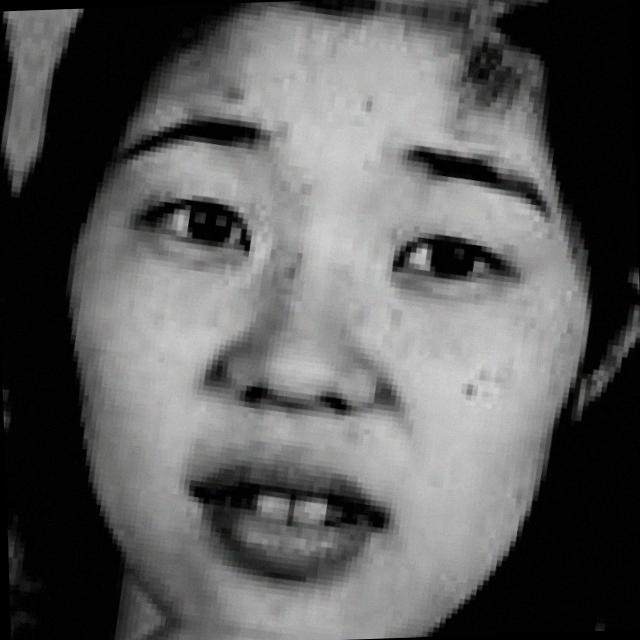fear: (86, 30, 558, 636)
